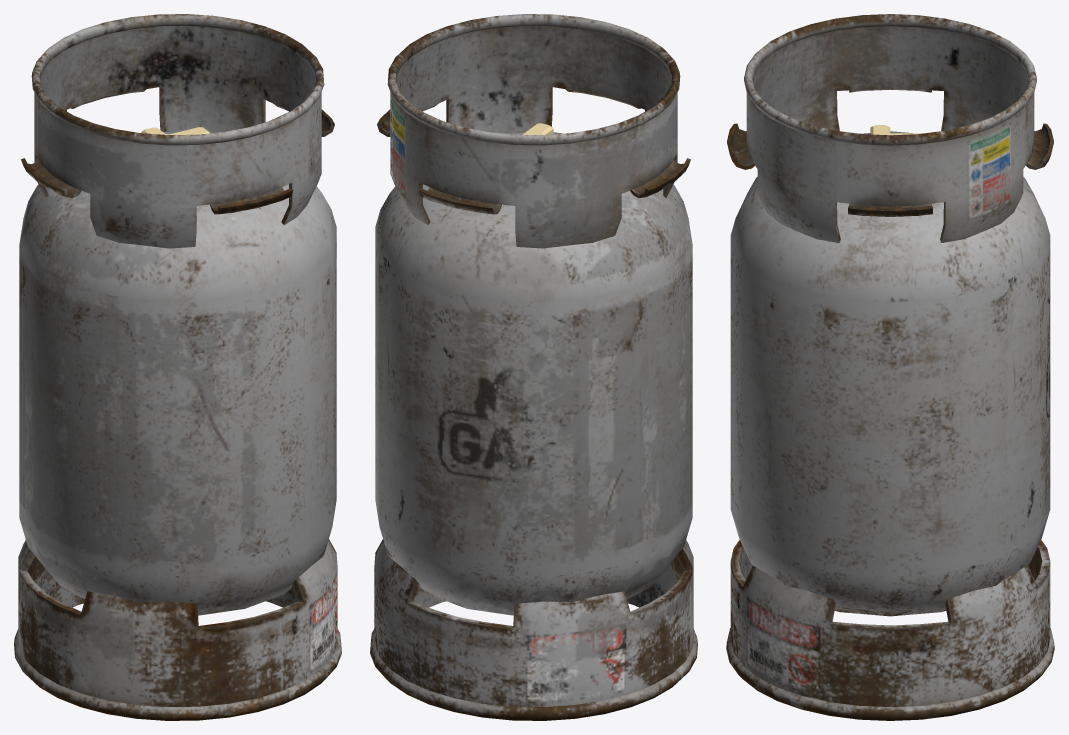
File: Prop_GasTube_White.fbx
The picture shows the model from 3 angles, left to right: view 1: azimuth 30°, elevation 25°; view 2: azimuth 150°, elevation 25°; view 3: azimuth 270°, elevation 25°; orthographic projection.
Parts seen in each view (by area): view 1: Prop_GasTube_White; view 2: Prop_GasTube_White; view 3: Prop_GasTube_White.
Part boxes in pixels (bbox=[...]): Prop_GasTube_White: bbox=[14, 14, 341, 720]; Prop_GasTube_White: bbox=[370, 14, 697, 720]; Prop_GasTube_White: bbox=[726, 14, 1054, 720].
Size of the model in its own units: 20.71 by 40.25 by 20.71.
